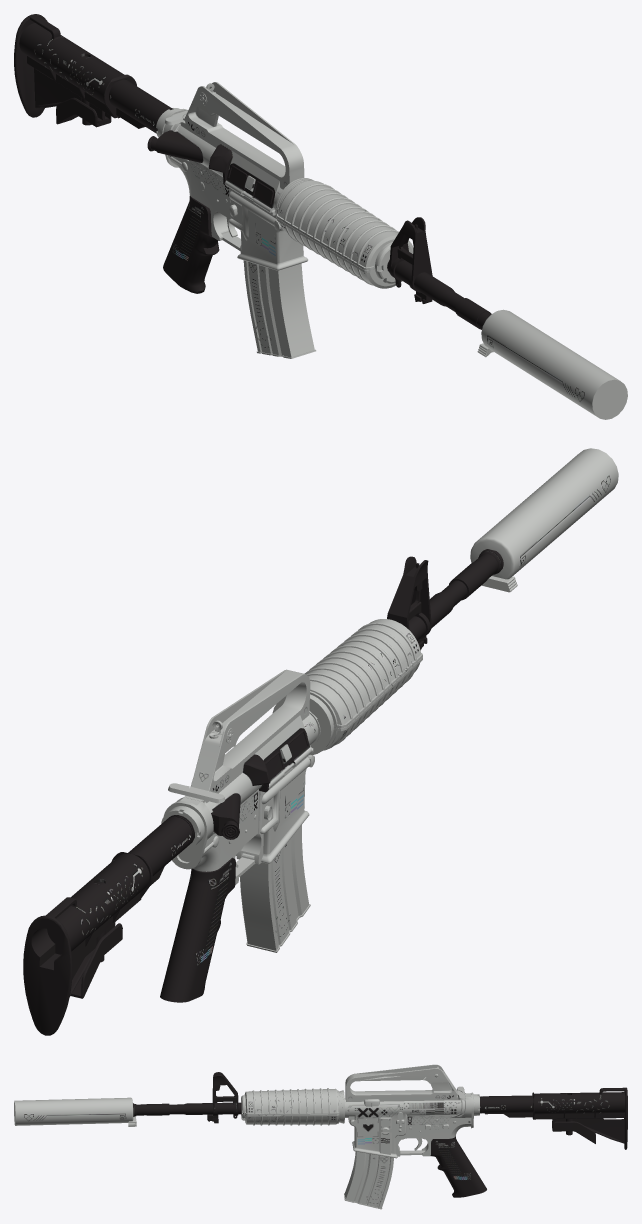
Rendered from M4A1-S_Printstream.glb.
3 renders of one model, top to bottom at view 1: azimuth 30°, elevation 25°; view 2: azimuth 150°, elevation 25°; view 3: azimuth 270°, elevation 25°, orthographic. The views are drawn at different scales.
Visible parts, largest first — view 1: m4a1_s; view 2: m4a1_s; view 3: m4a1_s.
Part boxes in pixels (box(x1,y1,x2,y2)): m4a1_s: box(14, 14, 627, 419); m4a1_s: box(23, 448, 618, 1035); m4a1_s: box(14, 1064, 627, 1209).
Bounding box in the file's own units: 5.08 × 11.67 × 47.47.
1 material, 1 textured.
